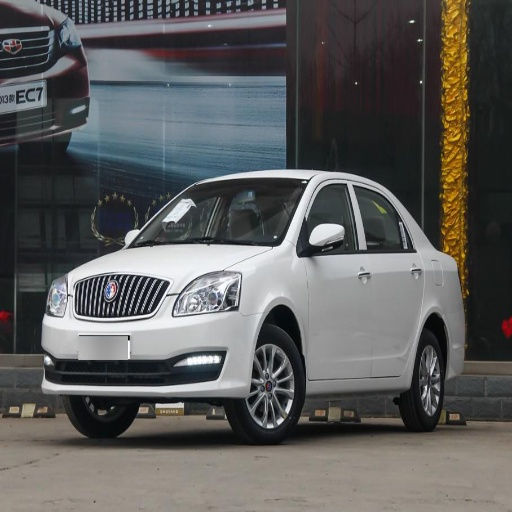front_bumper: (43, 275, 263, 400), (2, 30, 88, 141)
front_glass: (130, 178, 307, 246)
front_left_door: (298, 179, 371, 378)
